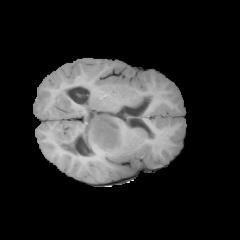glioma: (90, 116, 124, 152)
